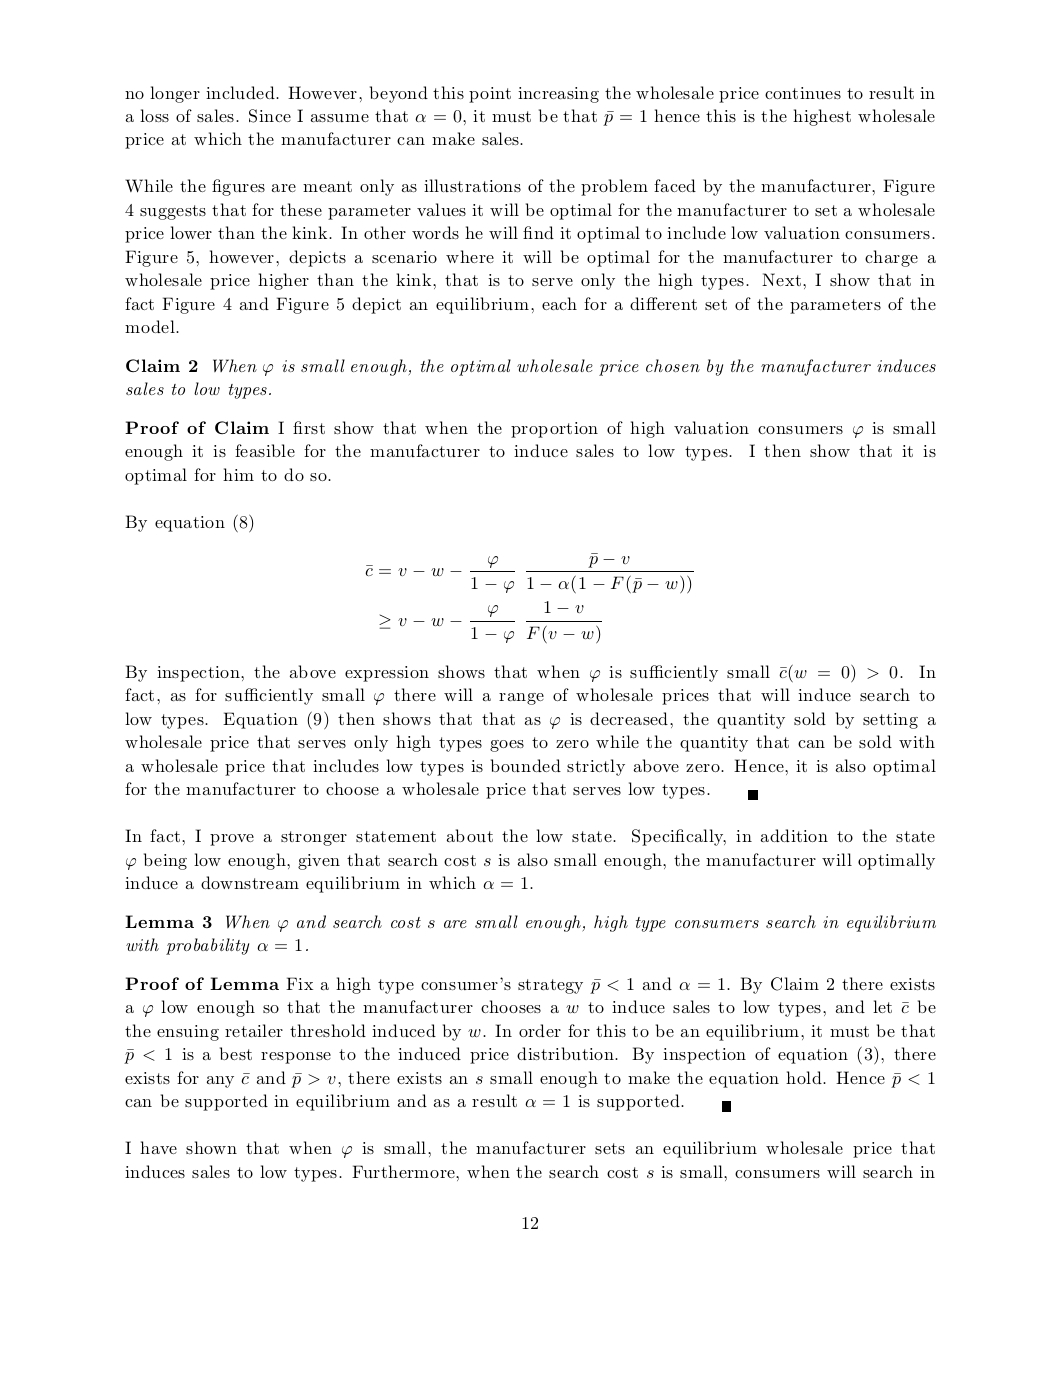formula: (366, 553, 693, 593), (379, 600, 601, 644)
